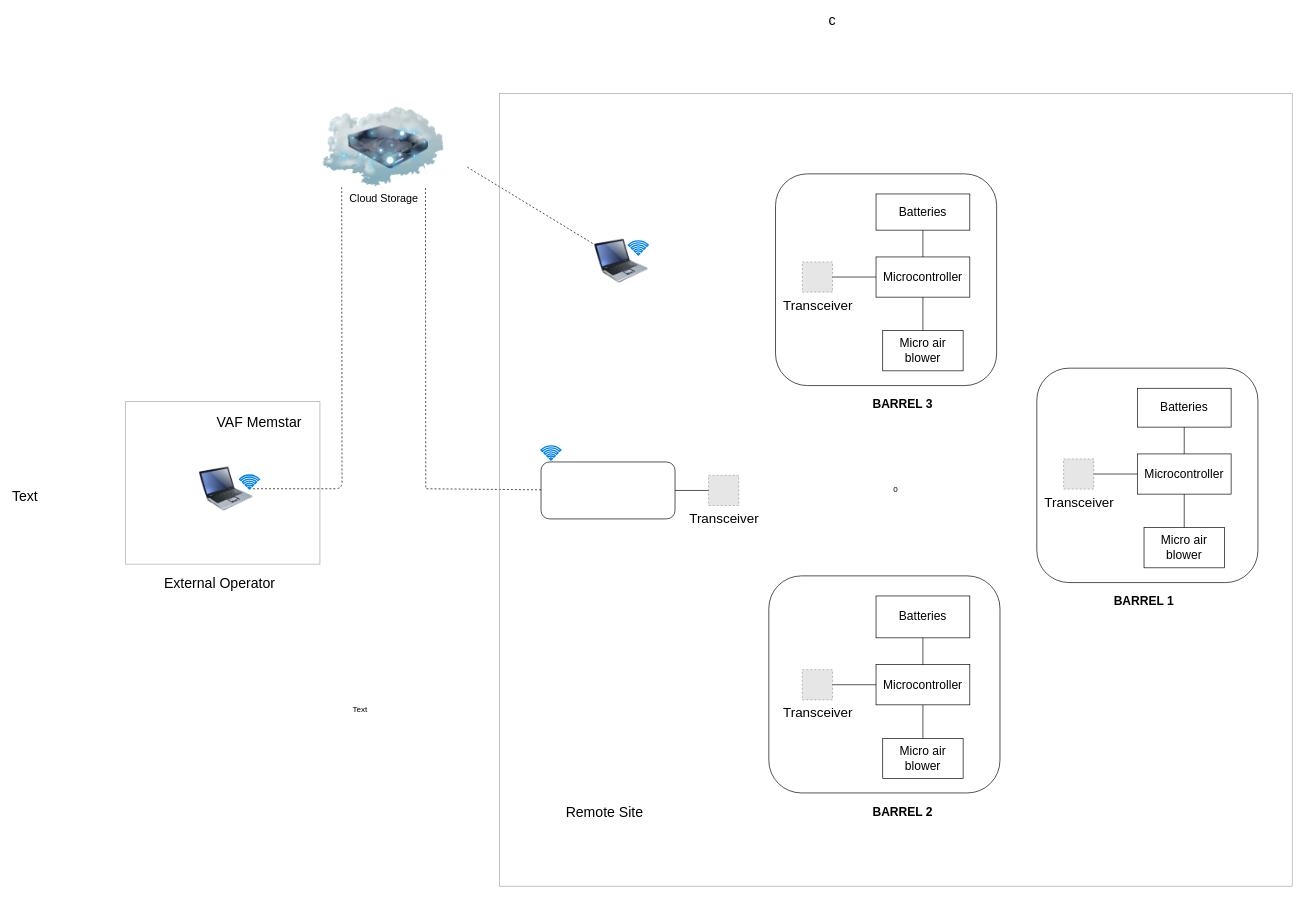
This 1304x898 diagram has some shape labels left out. Grey dashed boxes stand in for pictures. Each missing label, with the box of its shape:
Central Node: (540, 461, 675, 519)
Monitor / Control Unit: (199, 462, 253, 515)
Monitor / Control Unit (Customer): (594, 234, 648, 287)
